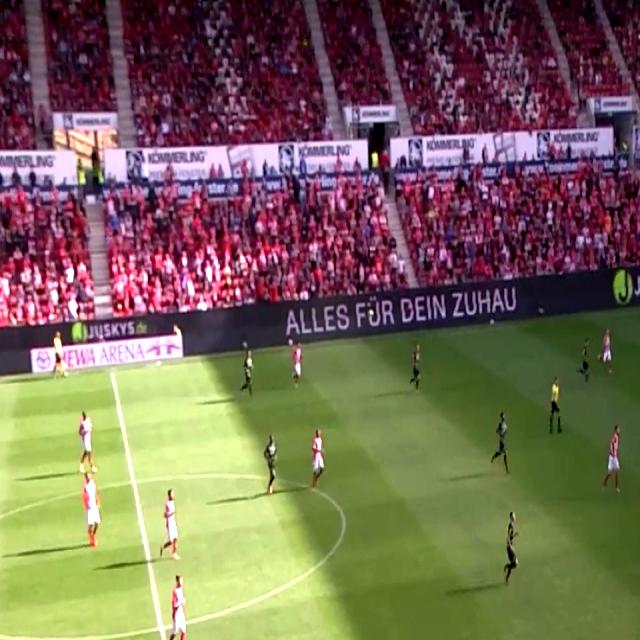referee: (546, 374, 568, 438), (47, 328, 72, 380)
soccer-player: (76, 468, 107, 556), (152, 487, 185, 567), (161, 571, 199, 640), (600, 423, 631, 502), (496, 507, 525, 591), (483, 407, 513, 480), (304, 429, 330, 498), (74, 406, 99, 475), (261, 430, 285, 500), (241, 344, 264, 407), (236, 337, 257, 398), (406, 337, 428, 394), (595, 324, 616, 379), (286, 335, 306, 388), (576, 336, 596, 388)
